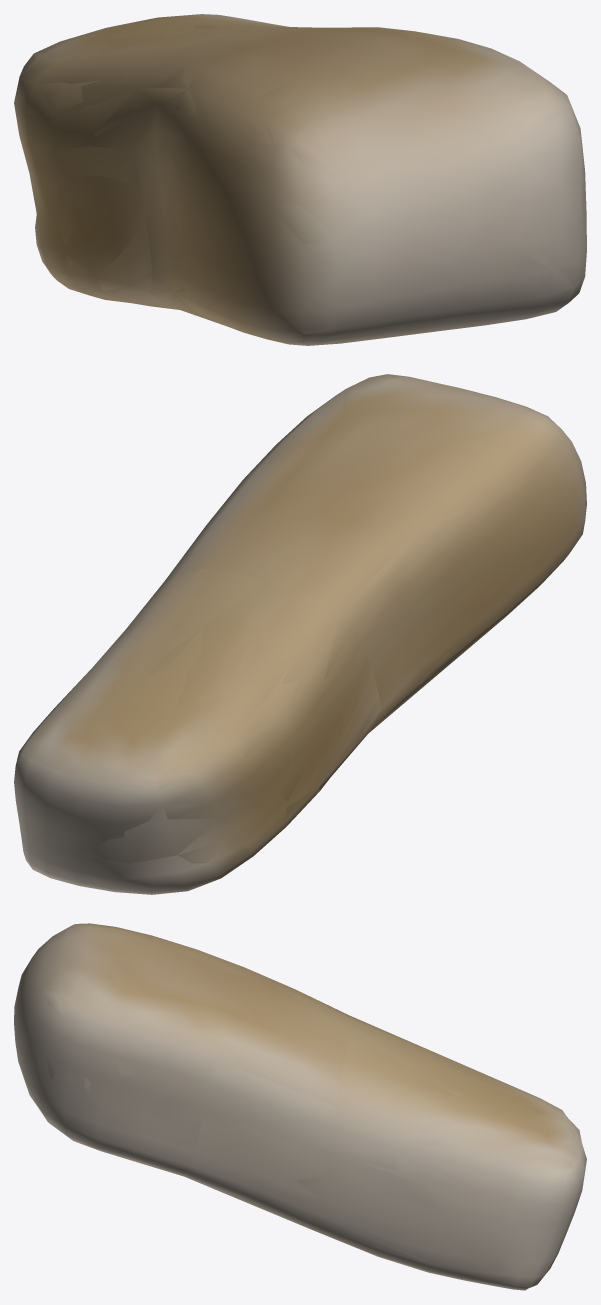
The model's file is R tarsi centrale.fbx.
The picture shows the model from 3 angles, top to bottom: view 1: azimuth 30°, elevation 25°; view 2: azimuth 150°, elevation 25°; view 3: azimuth 270°, elevation 25°; orthographic projection. The views are drawn at different scales.
Parts seen in each view (by area): view 1: R tarsi centrale, R tarsi centrale low; view 2: R tarsi centrale, R tarsi centrale low; view 3: R tarsi centrale, R tarsi centrale low.
Part boxes in pixels (bbox=[...]): R tarsi centrale: bbox=[14, 14, 586, 345]; R tarsi centrale low: bbox=[14, 25, 583, 345]; R tarsi centrale: bbox=[14, 374, 586, 894]; R tarsi centrale low: bbox=[19, 374, 584, 881]; R tarsi centrale: bbox=[14, 923, 586, 1290]; R tarsi centrale low: bbox=[17, 924, 586, 1290].
Size of the model in its own units: 1.26 by 1.34 by 2.55.
